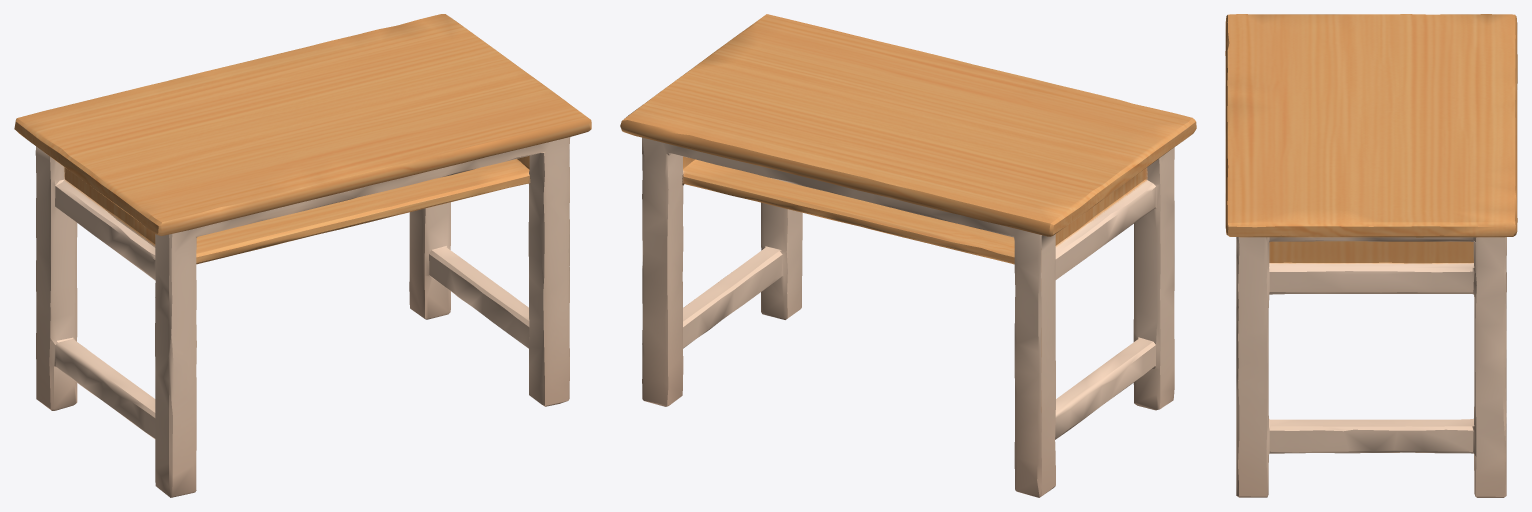
File: Table.glb
The picture shows the model from 3 angles, left to right: view 1: azimuth 30°, elevation 25°; view 2: azimuth 150°, elevation 25°; view 3: azimuth 270°, elevation 25°; orthographic projection.
Visible parts, largest first — view 1: geometry_0; view 2: geometry_0; view 3: geometry_0.
Boxes of the visible parts, bbox=[...] form: geometry_0: bbox=[14, 14, 591, 497]; geometry_0: bbox=[620, 14, 1196, 497]; geometry_0: bbox=[1225, 14, 1517, 497].
Bounding box in the file's own units: 1.2 × 0.75 × 0.7.
Materials: 1 (1 with a texture image).
